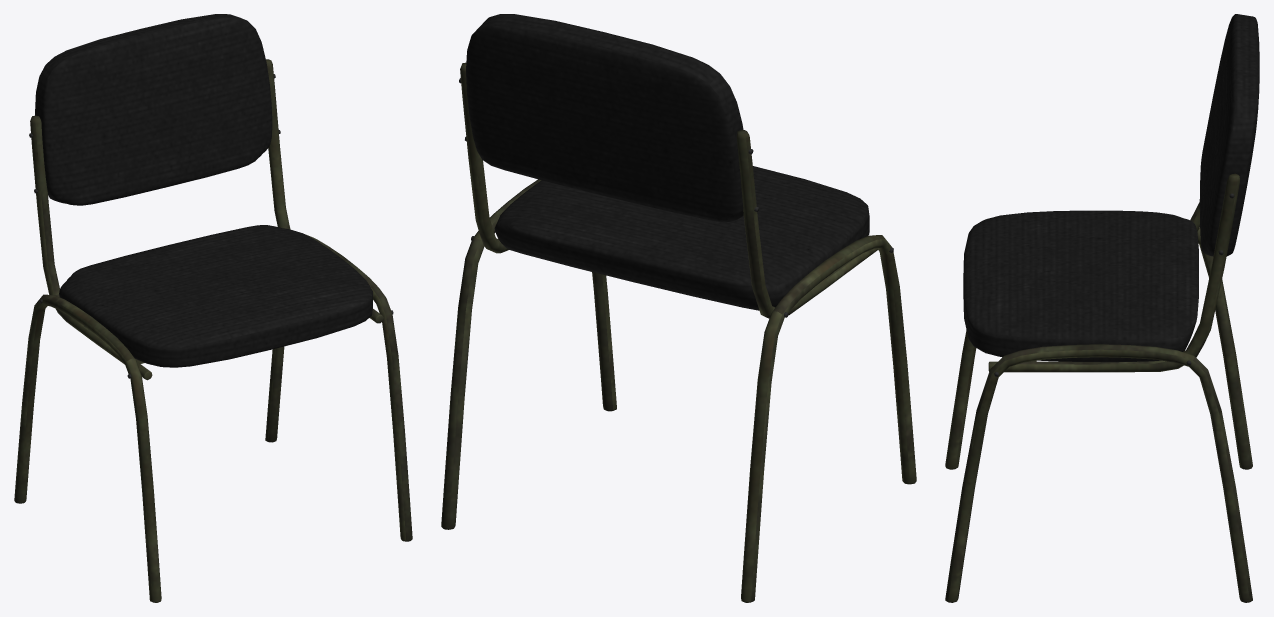
File: chair_1.obj
The picture shows the model from 3 angles, left to right: view 1: azimuth 30°, elevation 25°; view 2: azimuth 150°, elevation 25°; view 3: azimuth 270°, elevation 25°; orthographic projection. The views are drawn at different scales.
Visible parts, largest first — view 1: chair_1; view 2: chair_1; view 3: chair_1.
Part boxes in pixels (x1,y1,x2,y2): chair_1: [14, 14, 412, 602]; chair_1: [441, 14, 916, 602]; chair_1: [945, 14, 1259, 602].
Bounding box in the file's own units: 0.741 × 1.19 × 0.7036.
